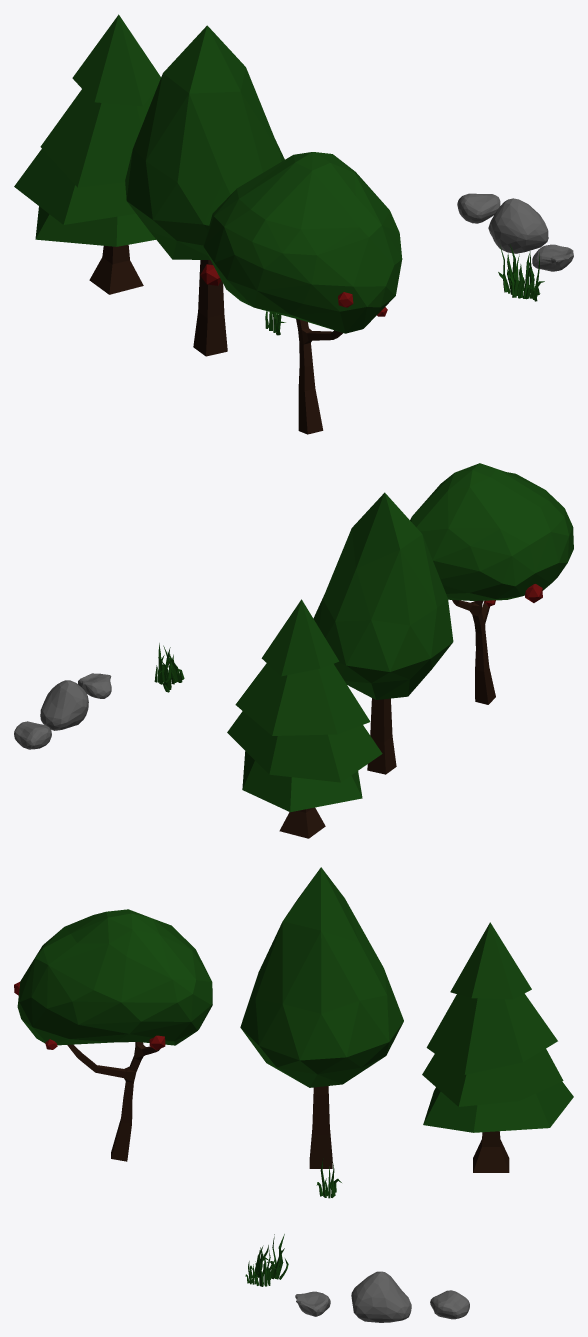
The model's file is nature.obj.
3 renders of one model, top to bottom at view 1: azimuth 30°, elevation 25°; view 2: azimuth 150°, elevation 25°; view 3: azimuth 270°, elevation 25°, orthographic. The views are drawn at different scales.
Parts seen in each view (by area): view 1: Icosphere, Plane, Cone.001, Cone.002, Cone, Cone.003, Icosphere.006, Plane.001, Plane.002, Icosphere.007, Icosphere.008, Cube.004; view 2: Plane, Icosphere, Cone.001, Cone, Cone.003, Cone.002, Icosphere.006, Plane.001, Plane.002, Icosphere.007, Icosphere.008; view 3: Plane, Icosphere, Cone.001, Cone, Cone.003, Cone.002, Icosphere.006, Plane.001, Plane.002, Icosphere.007, Icosphere.008.
Part boxes in pixels (<box>): Icosphere: <box>203,152,402,333</box>; Plane: <box>125,25,284,356</box>; Cone.001: <box>40,89,155,187</box>; Cone.002: <box>72,14,160,106</box>; Cone: <box>14,149,135,224</box>; Cone.003: <box>35,206,155,246</box>; Icosphere.006: <box>488,198,548,253</box>; Plane.001: <box>296,319,342,434</box>; Plane.002: <box>89,244,143,294</box>; Icosphere.007: <box>457,193,500,223</box>; Icosphere.008: <box>532,244,573,271</box>; Cube.004: <box>508,251,534,299</box>; Plane: <box>313,492,453,774</box>; Icosphere: <box>410,463,573,600</box>; Cone.001: <box>235,663,370,735</box>; Cone: <box>227,711,382,782</box>; Cone.003: <box>242,751,362,812</box>; Cone.002: <box>261,599,339,676</box>; Icosphere.006: <box>40,680,88,730</box>; Plane.001: <box>452,600,495,704</box>; Plane.002: <box>279,807,325,838</box>; Icosphere.007: <box>14,721,51,749</box>; Icosphere.008: <box>78,673,111,698</box>; Plane: <box>240,867,403,1168</box>; Icosphere: <box>17,909,212,1045</box>; Cone.001: <box>426,993,557,1074</box>; Cone: <box>422,1049,563,1106</box>; Cone.003: <box>423,1081,573,1132</box>; Cone.002: <box>450,922,531,999</box>; Icosphere.006: <box>351,1271,411,1322</box>; Plane.001: <box>67,1042,159,1161</box>; Plane.002: <box>473,1131,509,1172</box>; Icosphere.007: <box>430,1290,469,1319</box>; Icosphere.008: <box>295,1291,330,1316</box>.
Size of the model in its own units: 4.36 by 2.97 by 5.02.
